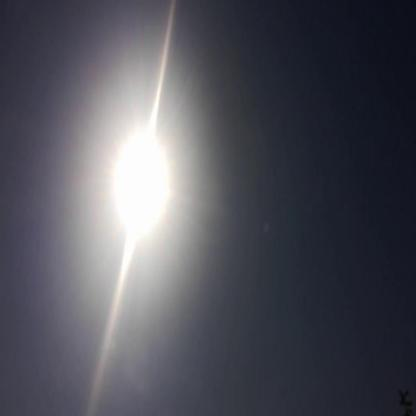other: (96, 79, 181, 278)
